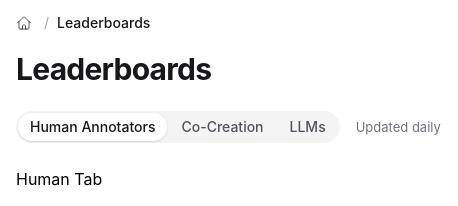
Test: LeaderboardsPage — extended edition (slots present) › switches to the co-creation tab on click
Step 1. Click the button "Co-Creation" → (222, 127), box [169,113,276,141]
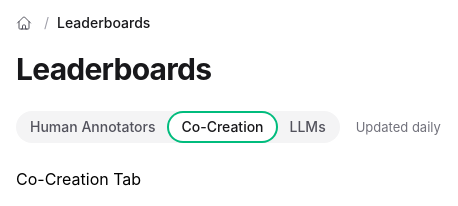
Now the text "Co-Creation Tab" is shown, box [16,169,141,189]
